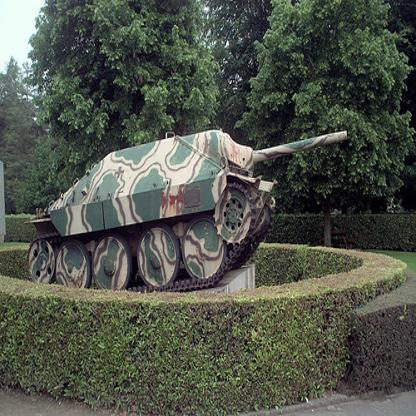Tank: (15, 124, 357, 317)
